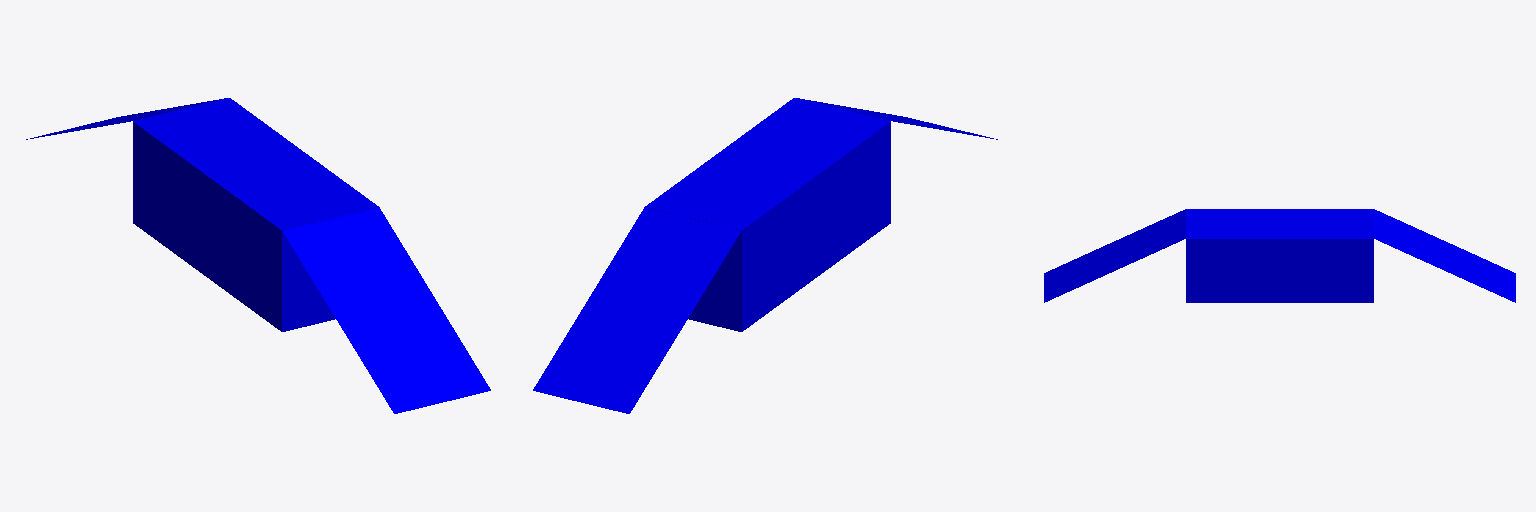
robot.urdf — rampa:
<?xml version="1.0"?>
<robot name="rampa">

<!-- Definición de Material -->
    <material name="blue">
        <color rgba="0.0 0.0 1.0 1.0"/>
    </material>

<!-- Definicion de links -->
    <link name="upwards_link">
        <!-- <inertial>
            <origin xyz="0.0 -11.5 -0.75" rpy="66.437 0.0 0.0"/>
            <mass value="40.0"/>
            <inertia ixx="0.38" ixy="0.0" ixz="0.0" iyy="0.075" iyz="0.0" izz="84.0"/>
        </inertial> -->

        <visual>
            <origin xyz="0.0 -11.5 -0.75" rpy="66.437 0.0 0.0"/>
            <geometry>
                <box size="1.5 3.35 0.0"/>
            </geometry>
            <material name="blue"/>
        </visual>

        <collision>
            <origin xyz="0.0 -11.5 -0.75" rpy="66.437 0.0 0.0"/>
            <geometry>
                <box size="1.5 3.35 0.0"/>
            </geometry>
        </collision>
    </link>

    <link name="base_link">
        <!-- <inertial>
            <origin xyz="0.0 0.0 0.75" rpy="0.0 0.0 0.0"/>
            <mass value="100.0"/>
            <inertia ixx="0.95" ixy="0.0" ixz="0.0" iyy="0.19" iyz="0.0" izz="210.0"/>
        </inertial> -->

        <visual>
            <origin xyz="0.0 0.0 0.75" rpy="0.0 0.0 0.0"/>
            <geometry>
                <box size="1.5 4.0 1.5"/>
            </geometry>
            <material name="blue"/>
        </visual>

        <collision>
            <origin xyz="0.0 0.0 0.75" rpy="0.0 0.0 0.0"/>
            <geometry>
                <box size="1.5 4.0 1.5"/>
            </geometry> 
        </collision>
        
    </link>

    <link name="downwards_link">
        <!-- <inertial>
            <origin xyz="0.0 -8.5 -0.75" rpy="-66.437 0.0 0.0"/>
            <mass value="40.0"/>
            <inertia ixx="0.38" ixy="0.0" ixz="0.0" iyy="0.075" iyz="0.0" izz="84.0"/>
        </inertial> -->

        <visual>
            <origin xyz="0.0 -8.5 -0.75" rpy="-66.437 0.0 0.0"/>
            <geometry>
                <box size="1.5 3.35 0.0"/>
            </geometry>
            <material name="blue"/>
        </visual>

        <collision>
            <origin xyz="0.0 -8.5 -0.75" rpy="-66.437 0.0 0.0"/>
            <geometry>
                <box size="1.5 3.35 0.0"/>
            </geometry>
        </collision>
    </link>

<!-- Definicion de Joints -->
    <joint name="upward_base_joint" type="fixed">
        <origin xyz="0.0 8.0 1.5" rpy="0.0 0.0 0.0"/>
        <parent link="base_link"/>
        <child link="upwards_link"/>
    </joint>

    <joint name="downwards_base_joint" type="fixed">
        <origin xyz="0.0 12.0 1.5" rpy="0.0 0.0 0.0"/>
        <parent link="base_link"/>
        <child link="downwards_link"/>
    </joint>
    
</robot>

--- Facts derived from the render (not from the file) ---
3 views of the same robot in one strip: view 1: azimuth 30°, elevation 25°; view 2: azimuth 150°, elevation 25°; view 3: azimuth 270°, elevation 25° (orthographic).
Robot: rampa — 3 links, 2 joints (2 fixed); root link base_link; default pose: every joint at zero.
Links seen in each view (by area): view 1: base_link, upwards_link, downwards_link; view 2: base_link, downwards_link, upwards_link; view 3: base_link, upwards_link, downwards_link.
Link boxes in pixels (left/top/right/bottom): base_link: left=133, top=98, right=378, bottom=331; upwards_link: left=283, top=207, right=490, bottom=413; downwards_link: left=26, top=98, right=225, bottom=139; base_link: left=645, top=98, right=890, bottom=331; downwards_link: left=533, top=207, right=740, bottom=413; upwards_link: left=798, top=98, right=997, bottom=139; base_link: left=1186, top=209, right=1373, bottom=302; upwards_link: left=1044, top=209, right=1185, bottom=302; downwards_link: left=1374, top=209, right=1515, bottom=302.
Bounding box of the posed robot: 1.5 × 10 × 1.5 m (x, y, z).
Geometry: primitives only (box / cylinder / sphere), no mesh files.